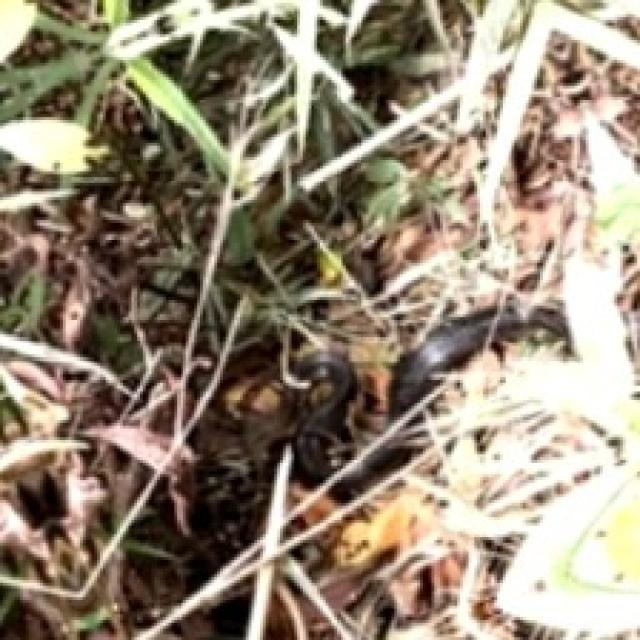king cobra: (320, 251, 637, 511)
